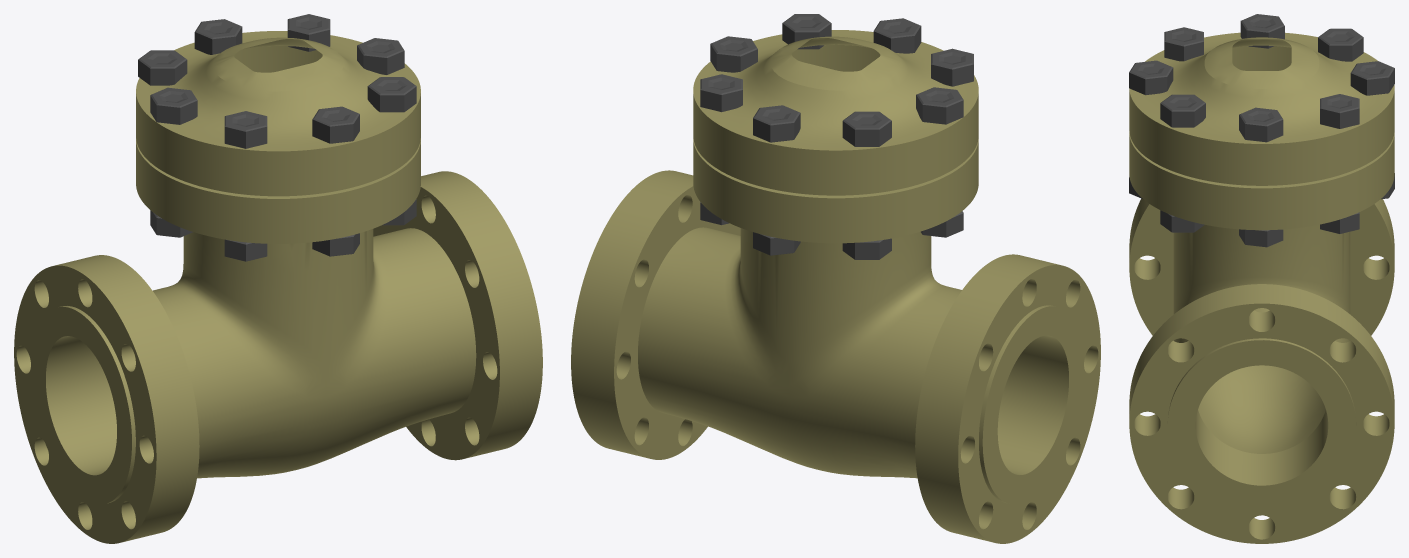
Rendered from Cuerpo.fbx.
The picture shows the model from 3 angles, left to right: view 1: azimuth 30°, elevation 25°; view 2: azimuth 150°, elevation 25°; view 3: azimuth 270°, elevation 25°; orthographic projection. The views are drawn at different scales.
Parts seen in each view (by area): view 1: Cuerpo; view 2: Cuerpo; view 3: Cuerpo.
Part boxes in pixels (x1,y1,x2,y2): Cuerpo: [14, 14, 542, 543]; Cuerpo: [571, 14, 1100, 543]; Cuerpo: [1129, 14, 1394, 543].
Size of the model in its own units: 0.4651 by 0.4861 by 0.2919.
